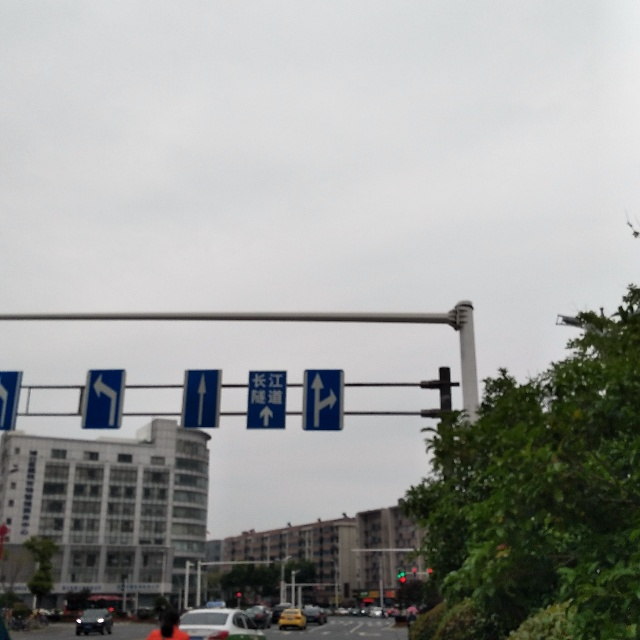left: (76, 354, 126, 437)
straight: (181, 364, 220, 432)
